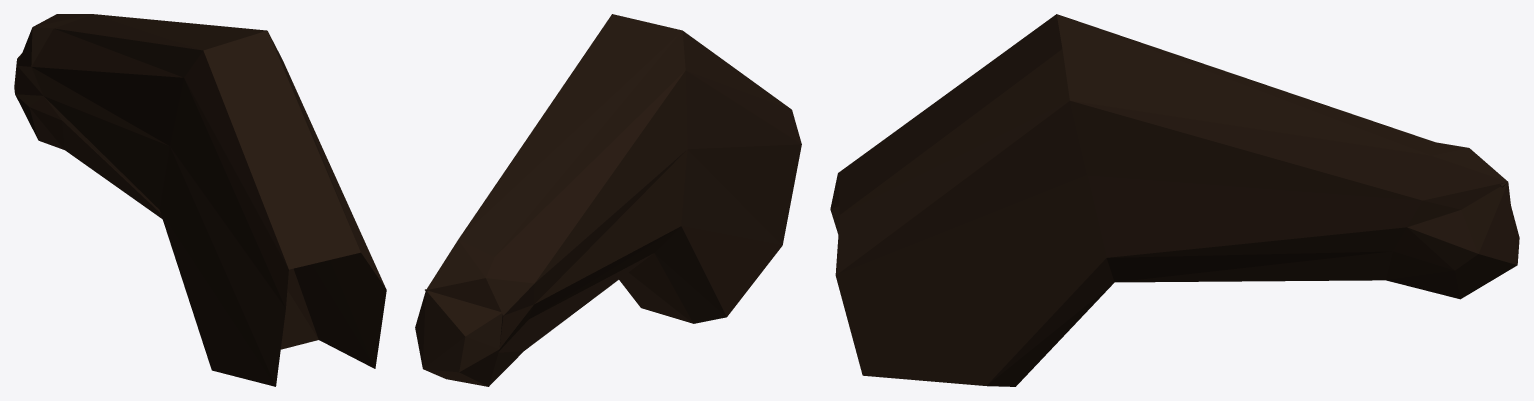
File: SFFA_Weapon_Trigger_001.fbx
3 renders of one model, left to right at view 1: azimuth 30°, elevation 25°; view 2: azimuth 150°, elevation 25°; view 3: azimuth 270°, elevation 25°, orthographic. The views are drawn at different scales.
Visible parts, largest first — view 1: SFFA_Weapon_Trigger_001; view 2: SFFA_Weapon_Trigger_001; view 3: SFFA_Weapon_Trigger_001.
Part boxes in pixels (x1,y1,x2,y2): SFFA_Weapon_Trigger_001: [14, 14, 386, 386]; SFFA_Weapon_Trigger_001: [415, 14, 801, 386]; SFFA_Weapon_Trigger_001: [830, 14, 1519, 386].
Bounding box in the file's own units: 1.08 × 2.9 × 5.29.
